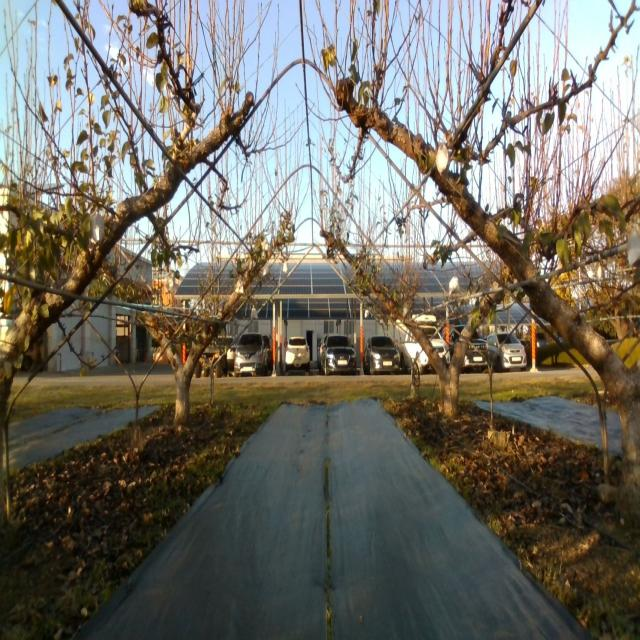pearbags: (626, 230, 640, 268), (436, 144, 450, 176), (91, 211, 104, 245), (448, 276, 459, 300), (166, 270, 176, 292)
